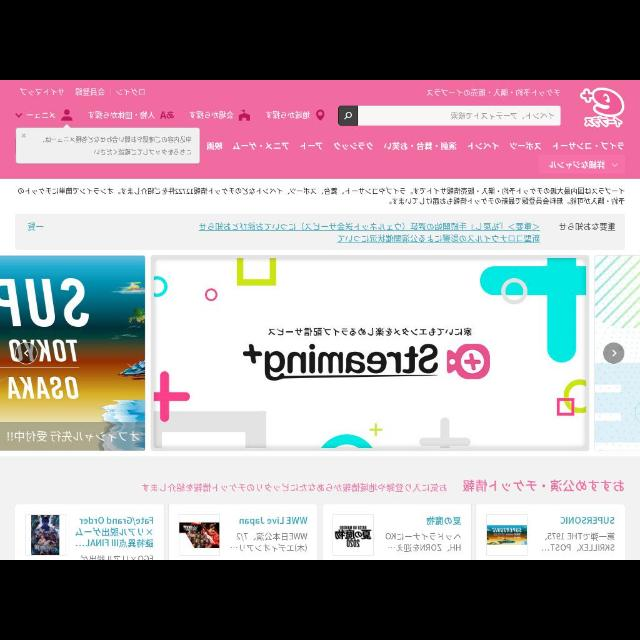backgroundimage: (151, 255, 589, 451), (1, 256, 144, 450), (594, 255, 640, 450)
button: (14, 342, 38, 366), (604, 342, 624, 366), (338, 106, 358, 126)
icon: (426, 89, 560, 98), (238, 110, 250, 122), (160, 110, 174, 120), (60, 110, 74, 120), (316, 110, 324, 120), (14, 110, 22, 120), (343, 111, 351, 121), (610, 348, 618, 358), (610, 162, 620, 168), (22, 134, 26, 138)
image: (242, 344, 490, 381), (580, 88, 624, 128), (487, 515, 528, 555), (333, 516, 373, 556), (26, 516, 66, 556), (179, 516, 219, 554)
input: (338, 106, 562, 126)
link: (198, 222, 542, 244)
multitab: (200, 128, 640, 178)
spinner: (538, 156, 624, 172), (14, 110, 56, 120)
text: (17, 188, 625, 206), (1, 277, 91, 329), (140, 482, 448, 494), (42, 136, 192, 156), (74, 516, 154, 548), (266, 326, 472, 338), (462, 479, 624, 493), (8, 338, 78, 366), (6, 375, 80, 401), (5, 430, 141, 444), (384, 533, 462, 553), (230, 532, 308, 552), (540, 532, 614, 552), (19, 87, 144, 97), (550, 140, 626, 152), (450, 112, 554, 120), (239, 516, 307, 528), (383, 141, 457, 151), (230, 140, 290, 152), (558, 221, 616, 233), (87, 111, 155, 121), (548, 160, 606, 170), (265, 110, 311, 120), (188, 111, 234, 121), (331, 141, 375, 151), (560, 517, 614, 525), (426, 516, 462, 526), (511, 141, 544, 151), (466, 142, 499, 152), (25, 111, 55, 119), (300, 141, 324, 151), (204, 140, 223, 152)
toolbar: (1, 80, 640, 128)
